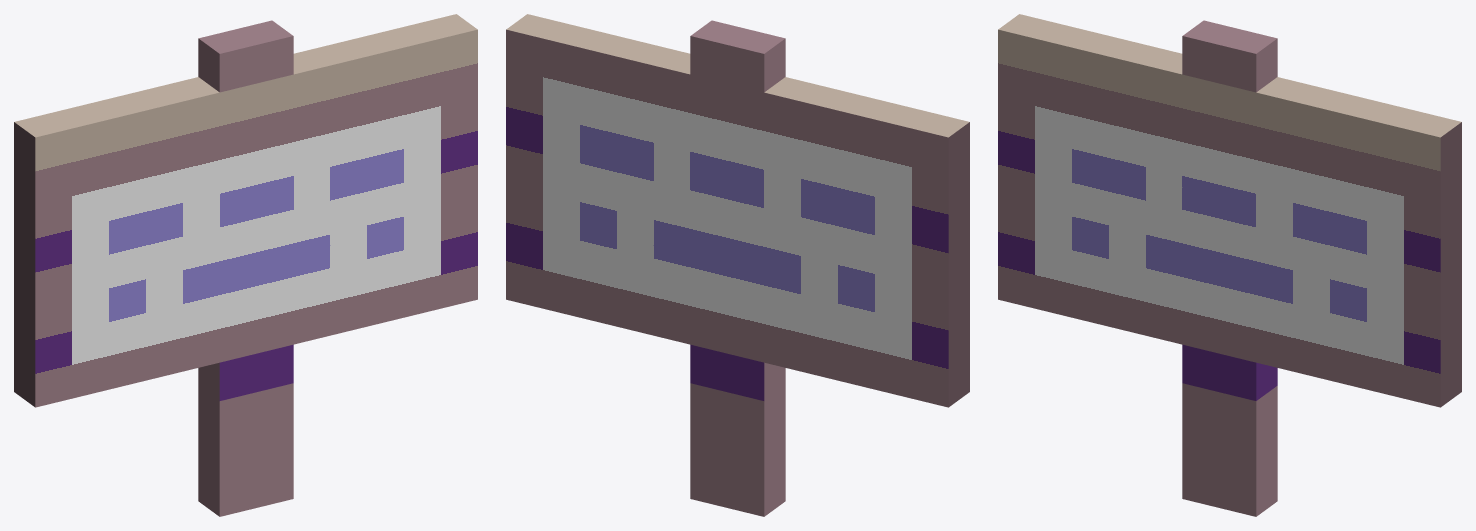
Rendered from Sign.gltf.
3 views of the same model, side by side, from view 1: azimuth 30°, elevation 25°; view 2: azimuth 150°, elevation 25°; view 3: azimuth 330°, elevation 25° (orthographic).
Parts seen in each view (by area): view 1: mesh; view 2: mesh; view 3: mesh.
Boxes of the visible parts, x1,y1,x2,y2 form: mesh: [14, 14, 477, 516]; mesh: [506, 14, 969, 516]; mesh: [998, 14, 1461, 516].
Size of the model in its own units: 0.75 by 0.75 by 0.0625.
Materials: 1 (1 with a texture image).
